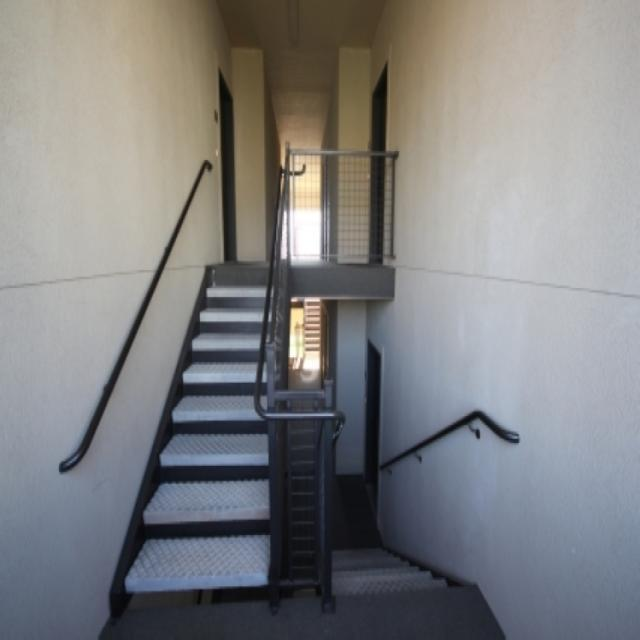stairs: (122, 263, 278, 602)
